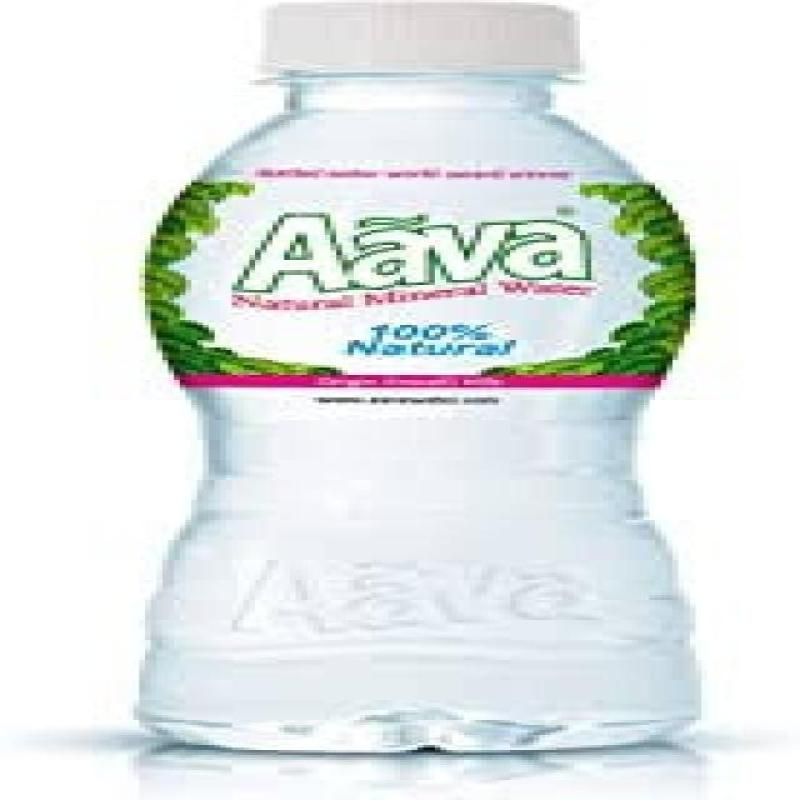botella: (139, 0, 719, 752)
